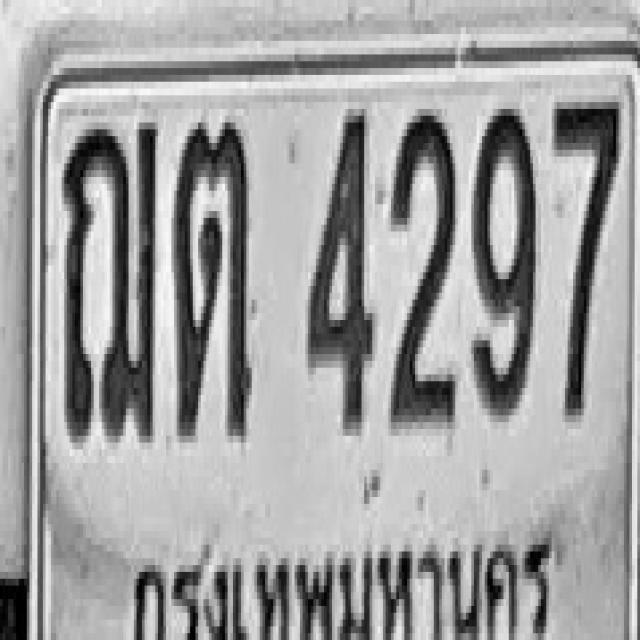2: (388, 102, 456, 429)
21ChorChoe: (62, 115, 158, 442)
30TorTao: (174, 119, 252, 439)
4: (306, 105, 374, 432)
7: (553, 99, 620, 418)
9: (471, 102, 536, 415)
Bangkok: (128, 533, 568, 640)
